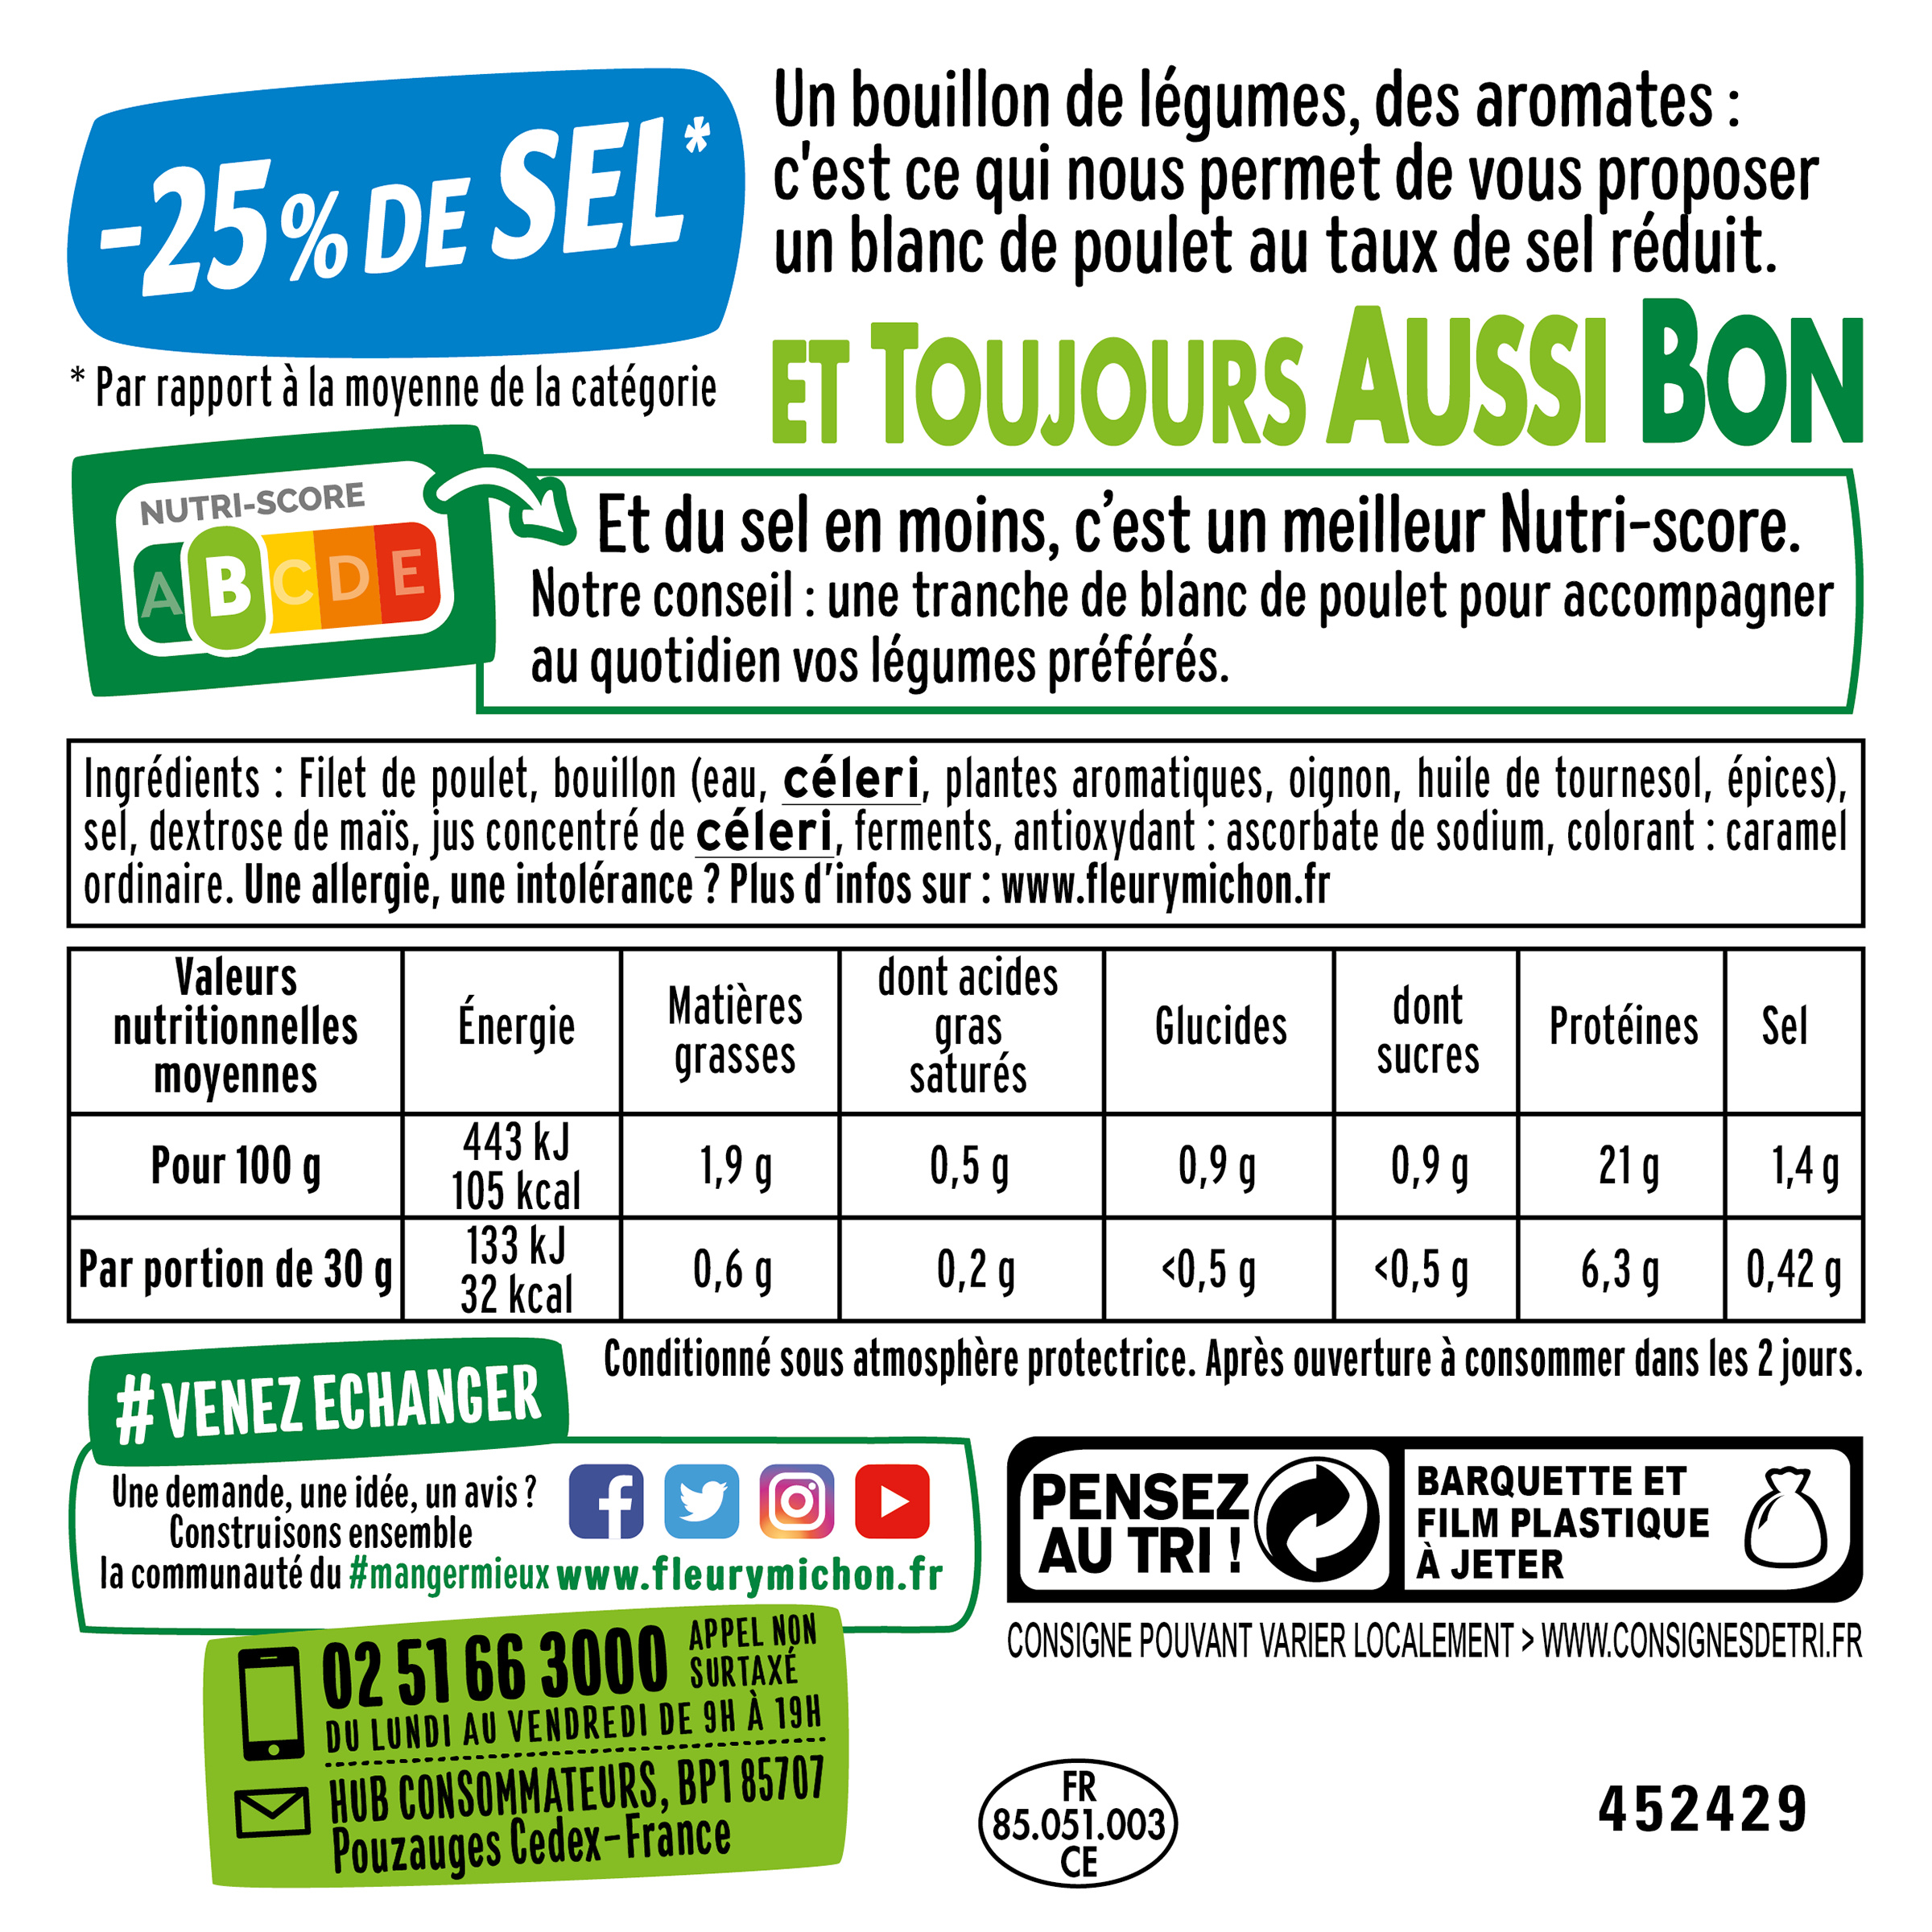column: (85, 959, 393, 1297), (869, 954, 1060, 1299), (663, 980, 803, 1299), (1548, 1003, 1697, 1295), (455, 989, 587, 1306), (1152, 1005, 1288, 1302), (1371, 984, 1476, 1297), (1746, 1007, 1847, 1297)
table: (58, 938, 1881, 1338)
